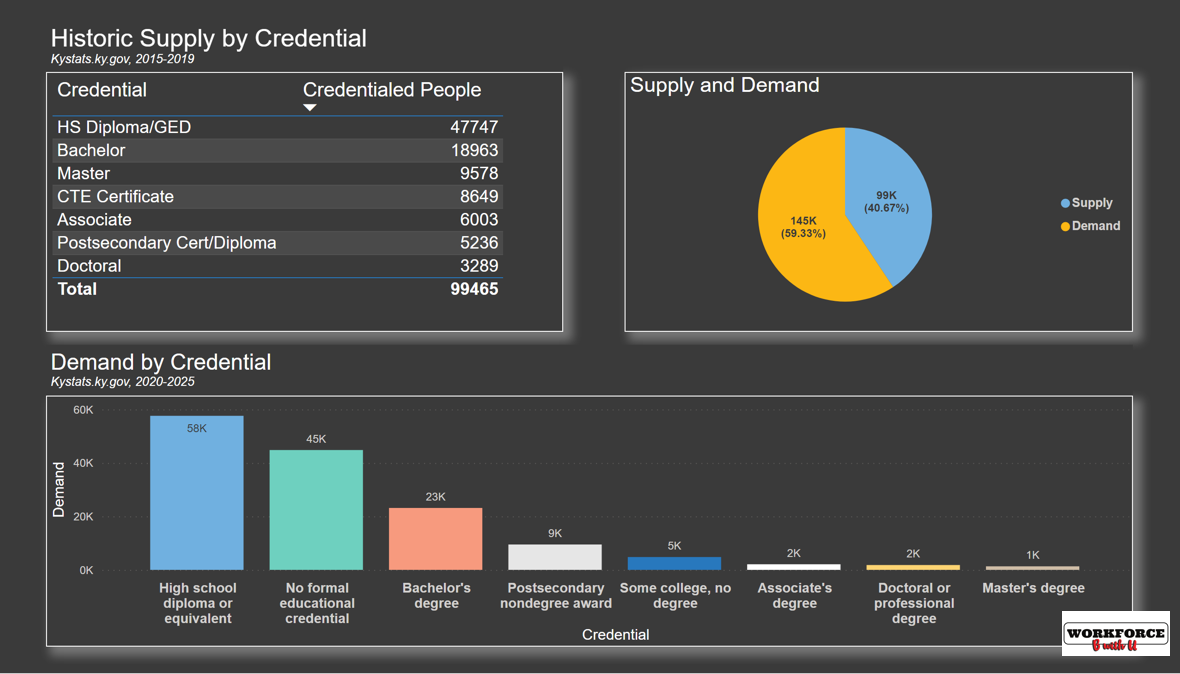

The page's visual inventory and layout, read from the dashboard file:
{"tool":"powerbi","page":{"name":"Slide 4 - Supply vs Demand","canvas":[1280,720],"ordinal":4},"visuals":[{"type":"tableEx","fields":{"Values":["Total Historic Supply (2).Column1","Sum(Total Historic Supply (2).Credentialed People)"]},"box":[52.4,79.7,559.3,280.9],"z":0},{"type":"columnChart","title":"Demand by Credential","fields":{"Category":["Total Future Demand.Credential"],"Y":["Sum(Total Future Demand.Demand)"]},"box":[52.4,429.6,1175.8,271.3],"z":1000},{"type":"textbox","box":[52.4,22.6,559.3,57.1],"z":2000},{"type":"pieChart","fields":{"Y":["Sum(Total Historic Supply.Supply)","Sum(Total Future Demand.Demand)"]},"box":[678.3,79.7,549.8,280.9],"z":3000},{"type":"textbox","box":[52.4,374.9,1175.8,54.7],"z":4000}]}

Visuals, with their boxes in screenshot pixels (x1, y1, x2, y2), scaled from the page's 1280x720 canvas onto the 1180x674 screenshot:
tableEx - Total Historic Supply (2).Column1 x Sum(Total Historic Supply (2).Credentialed People): 48, 75, 564, 338
"Demand by Credential" columnChart: 48, 402, 1132, 656
textbox: 48, 21, 564, 75
pieChart - Sum(Total Historic Supply.Supply) x Sum(Total Future Demand.Demand): 625, 75, 1132, 338
textbox: 48, 351, 1132, 402
